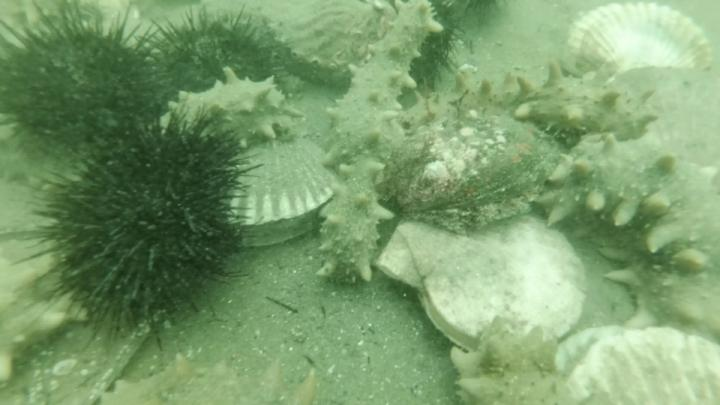echinus: (18, 107, 261, 347), (2, 1, 157, 162), (124, 5, 287, 126), (414, 2, 462, 93)
holothurian: (539, 129, 720, 267), (391, 57, 659, 146), (326, 1, 442, 174), (444, 309, 575, 405), (596, 238, 720, 339), (159, 66, 304, 151)
scallop: (375, 211, 593, 353), (554, 326, 720, 405), (561, 1, 715, 81), (225, 147, 335, 253), (310, 148, 391, 290)
